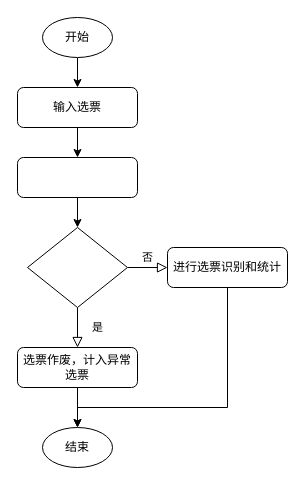
The diagram is 305 pixels wide and 485 high, and some of its shapes have lost their labels. Here are the shapes that lost their labels. From the top down, the box of each, then its label:
(16, 156, 138, 198): 选票非法填涂检测
(26, 226, 128, 308): 存在非法填涂？
